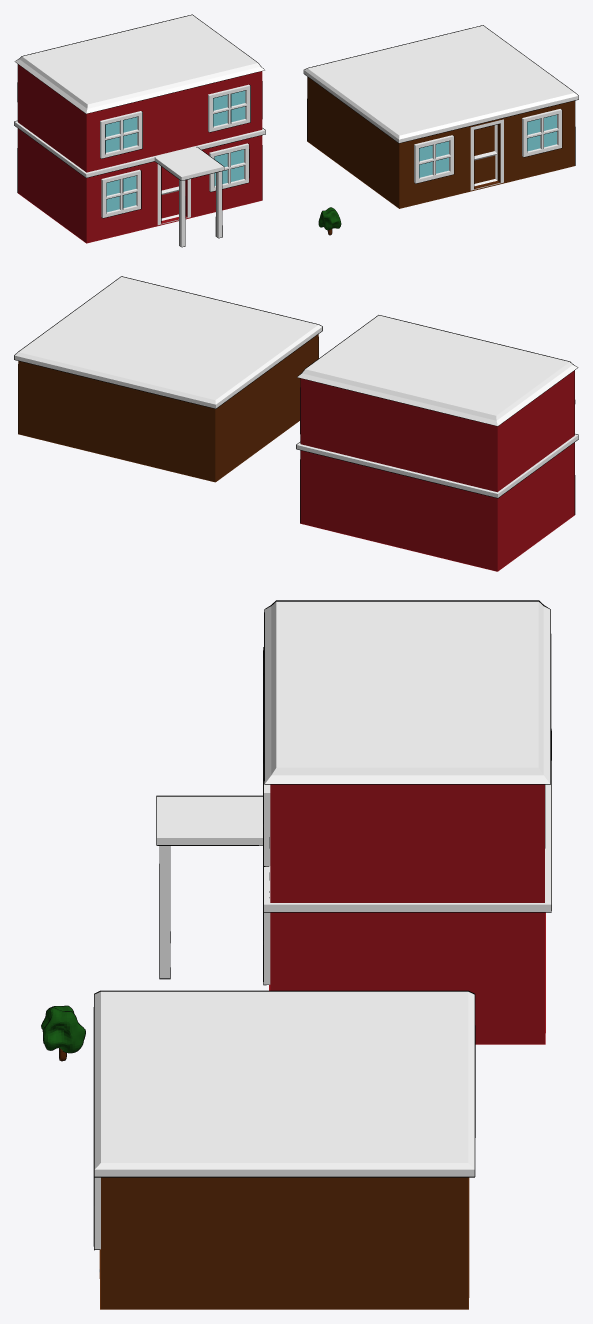
The model's file is Arbusto.fbx.
3 renders of one model, top to bottom at view 1: azimuth 30°, elevation 25°; view 2: azimuth 150°, elevation 25°; view 3: azimuth 270°, elevation 25°, orthographic. The views are drawn at different scales.
Parts seen in each view (by area): view 1: Cube.001, Cube.002, Cube; view 2: Cube.001, Cube.002; view 3: Cube.001, Cube.002, Cube.
Boxes of the visible parts, x1,y1,x2,y2 form: Cube.001: (14, 14, 265, 247); Cube.002: (303, 25, 578, 208); Cube: (318, 207, 341, 235); Cube.001: (296, 315, 578, 571); Cube.002: (14, 276, 322, 482); Cube.001: (156, 600, 551, 1044); Cube.002: (93, 990, 475, 1309); Cube: (41, 1005, 85, 1061).
Size of the model in its own units: 3787 by 1109 by 1860.
